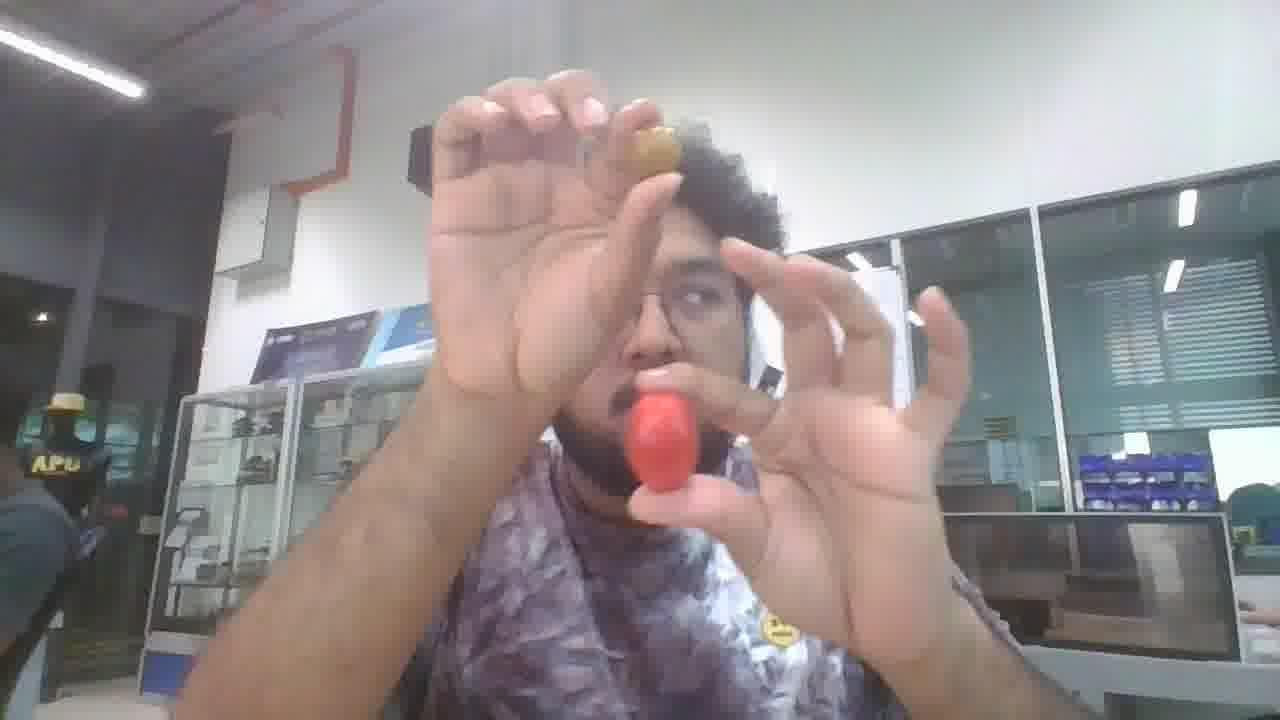red_cherry_tomato: (625, 393, 699, 490)
yellow_cherry_tomato: (629, 126, 681, 178)
